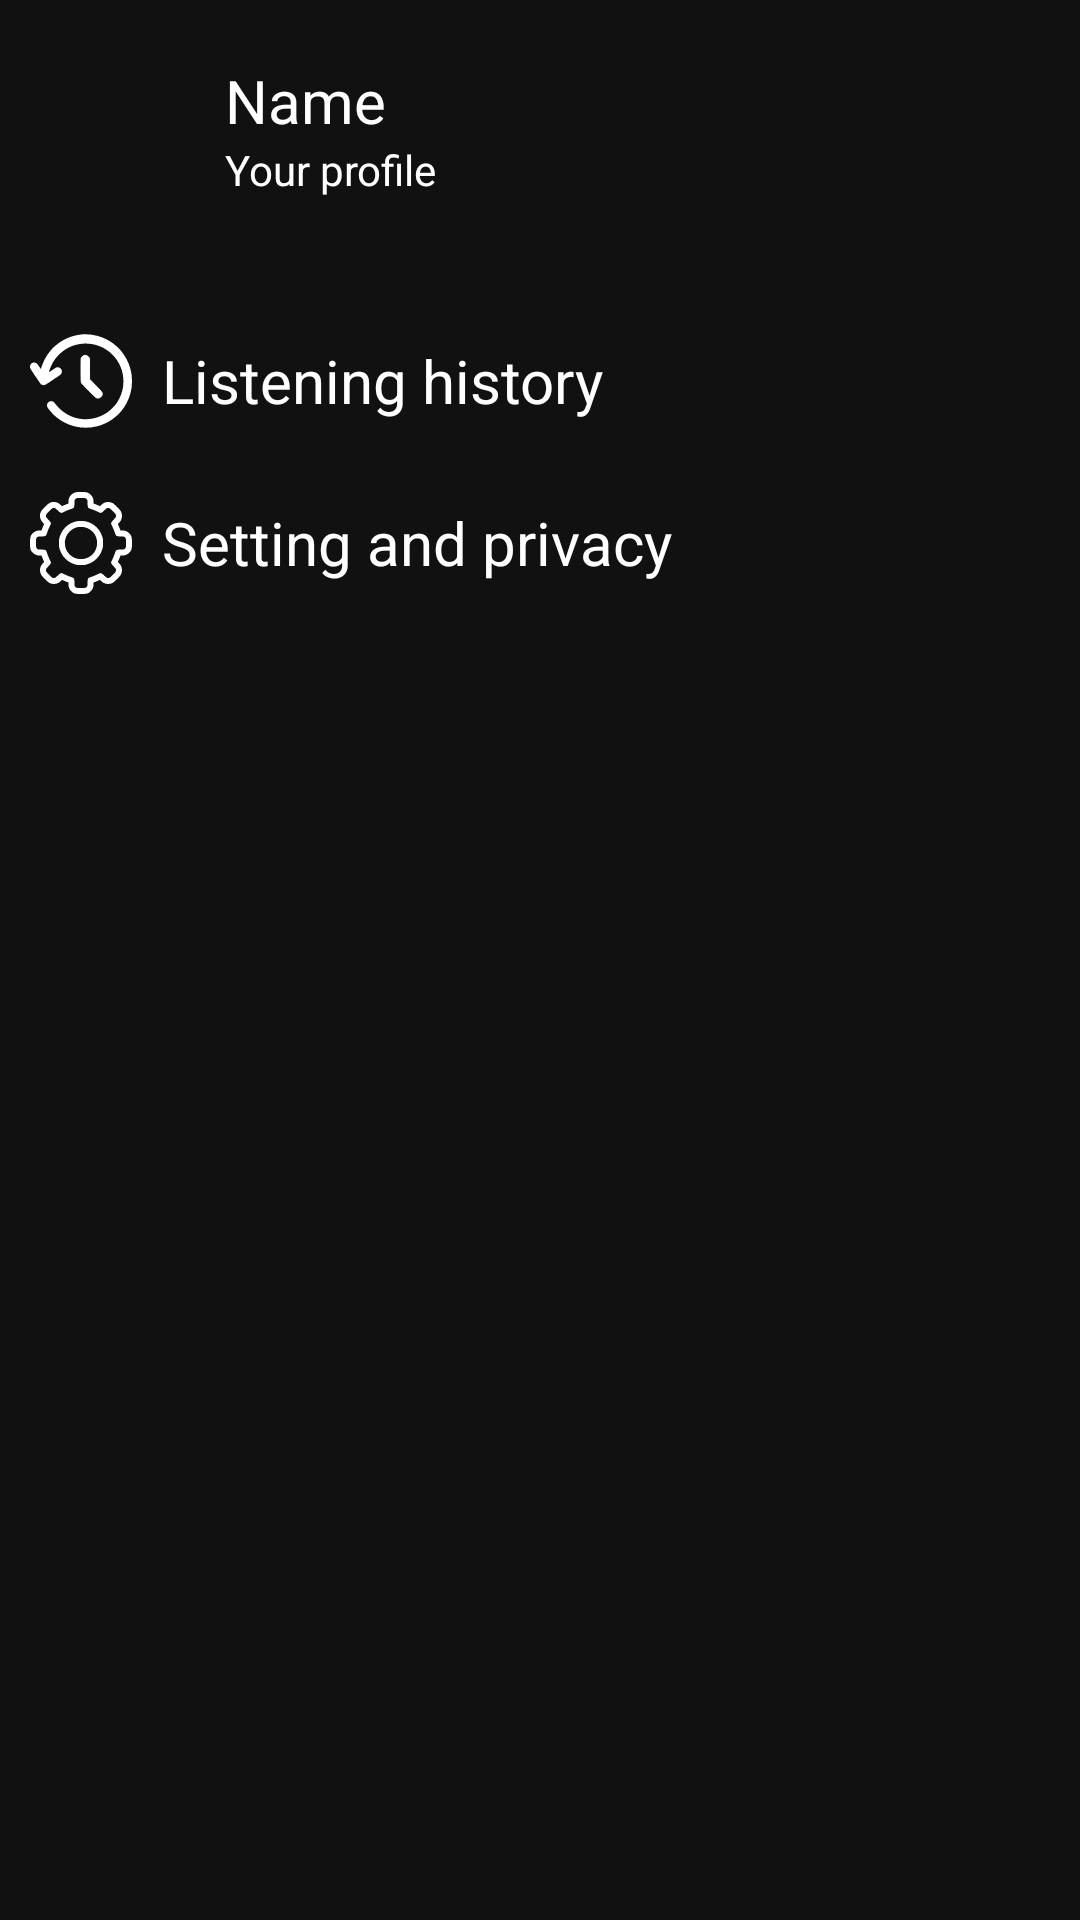

Where to tap for icons on this 1080px x 1920px app screen, as [x,y]:
settings: [81,543]
